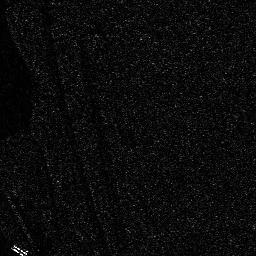ship: (10, 243, 25, 256)
